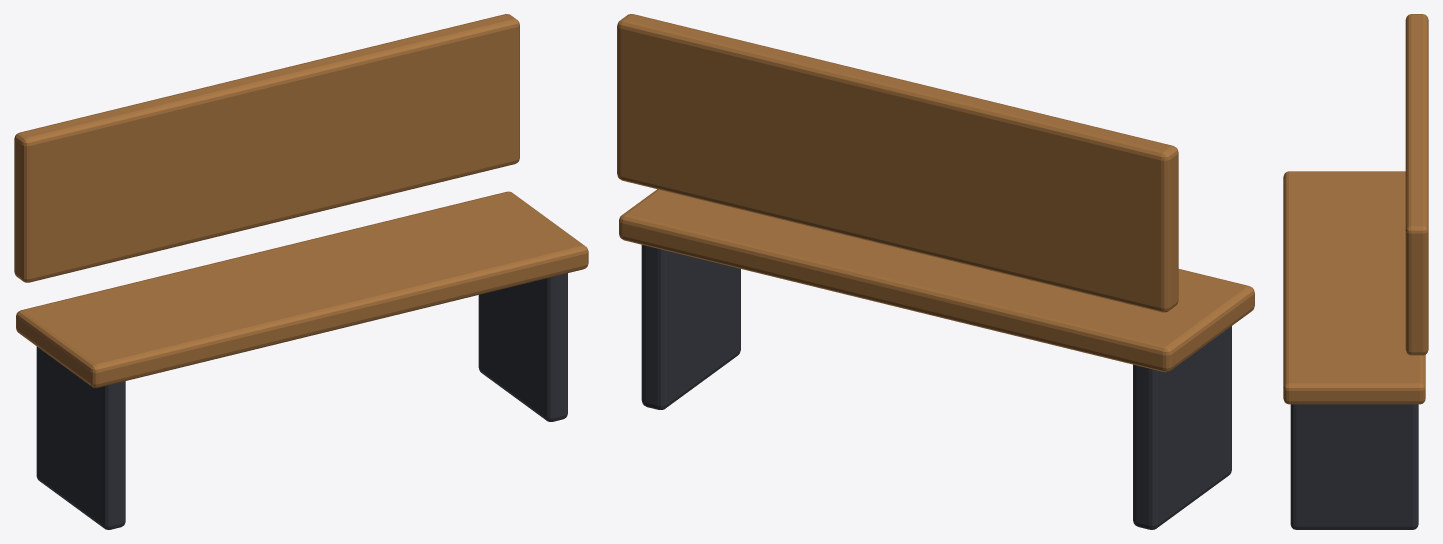
The model's file is bench.glb.
3 views of the same model, side by side, from view 1: azimuth 30°, elevation 25°; view 2: azimuth 150°, elevation 25°; view 3: azimuth 270°, elevation 25° (orthographic). The views are drawn at different scales.
Visible parts, largest first — view 1: bench; view 2: bench; view 3: bench.
Boxes of the visible parts, x1=… form: bench: x1=14, y1=14, x2=588, y2=529; bench: x1=617, y1=14, x2=1254, y2=529; bench: x1=1283, y1=14, x2=1428, y2=529.
Bounding box in the file's own units: 1.8 × 1.21 × 0.51.
